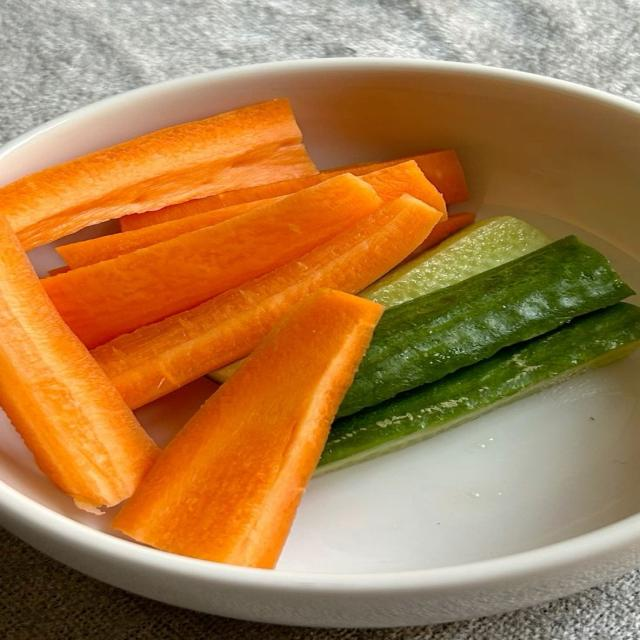carrot: (114, 290, 383, 568), (93, 195, 440, 407), (43, 174, 380, 347), (0, 100, 317, 249), (0, 216, 157, 511), (120, 150, 467, 230), (56, 196, 286, 268), (57, 196, 286, 268), (321, 150, 468, 204), (403, 213, 475, 262), (407, 213, 475, 259), (48, 266, 69, 275)
cucumber sliced: (314, 303, 639, 476), (337, 236, 634, 417), (361, 216, 550, 307), (427, 214, 463, 241)
